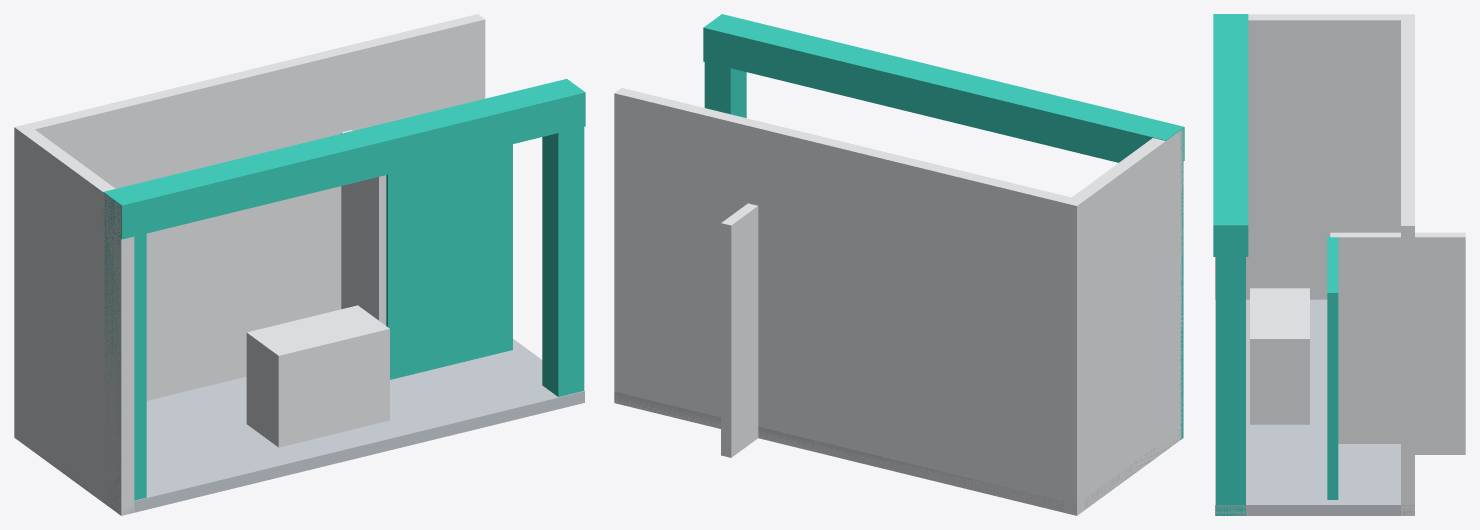
3 views of the same model, side by side, from view 1: azimuth 30°, elevation 25°; view 2: azimuth 150°, elevation 25°; view 3: azimuth 270°, elevation 25° (orthographic). The views are drawn at different scales.
Visible parts, largest first — view 1: Exhibition Booth Concept; view 2: Exhibition Booth Concept; view 3: Exhibition Booth Concept.
Part boxes in pixels (x1=…): Exhibition Booth Concept: x1=14, y1=14, x2=585, y2=515; Exhibition Booth Concept: x1=614, y1=14, x2=1184, y2=515; Exhibition Booth Concept: x1=1213, y1=14, x2=1465, y2=515.
Bounding box in the file's own units: 5 × 3.2 × 2.52.
